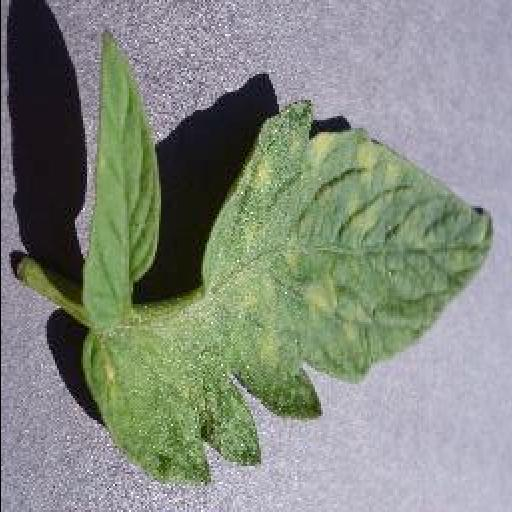disease_tomato: (78, 99, 492, 484)
